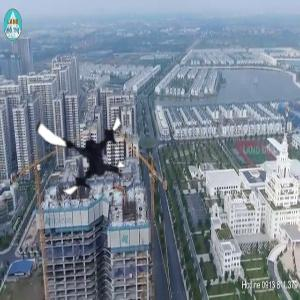drone: (32, 97, 136, 201)
